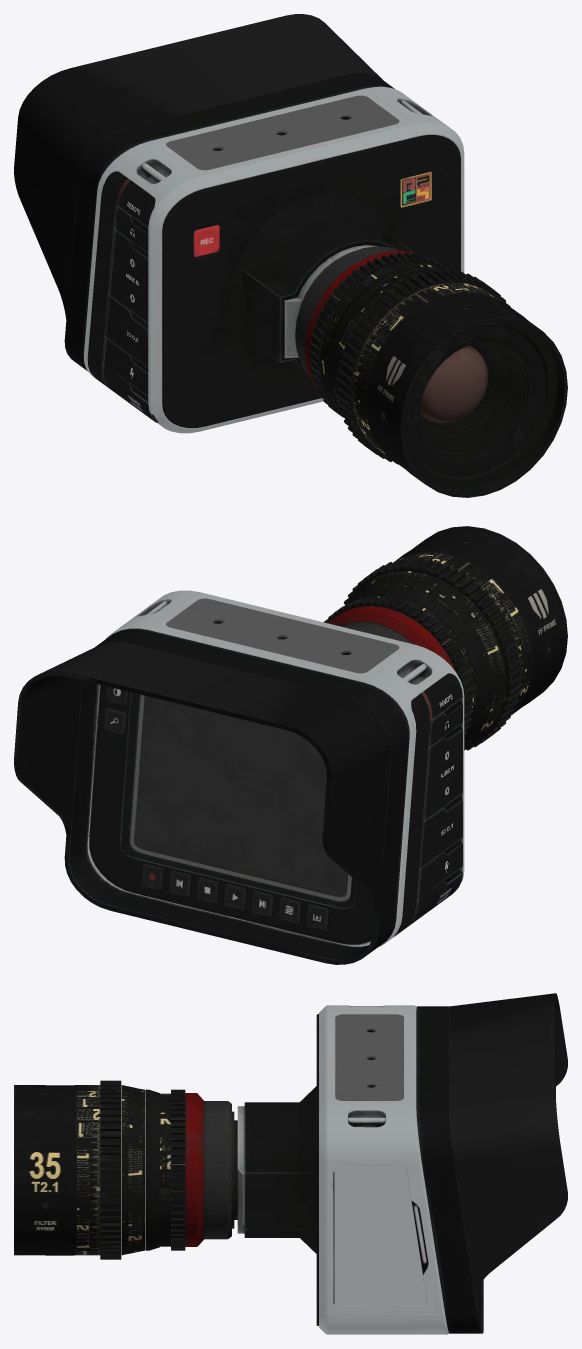
The model's file is camera.glb.
3 renders of one model, top to bottom at view 1: azimuth 30°, elevation 25°; view 2: azimuth 150°, elevation 25°; view 3: azimuth 270°, elevation 25°, orthographic. The views are drawn at different scales.
Visible parts, largest first — view 1: Object_6, Object_30, Object_58; view 2: Object_6, Object_58, Object_30; view 3: Object_6, Object_58, Object_30.
Part boxes in pixels (<box>): Object_6: <box>84,86,464,433</box>; Object_30: <box>115,178,567,497</box>; Object_58: <box>14,14,394,371</box>; Object_6: <box>87,590,464,946</box>; Object_58: <box>14,628,409,964</box>; Object_30: <box>324,526,567,750</box>; Object_6: <box>244,1005,448,1334</box>; Object_58: <box>416,993,567,1333</box>; Object_30: <box>14,1080,244,1259</box>.
Size of what is drawn, in the model's own units: 0.2437 by 0.2004 by 0.4209.
3 materials, 3 textured.
